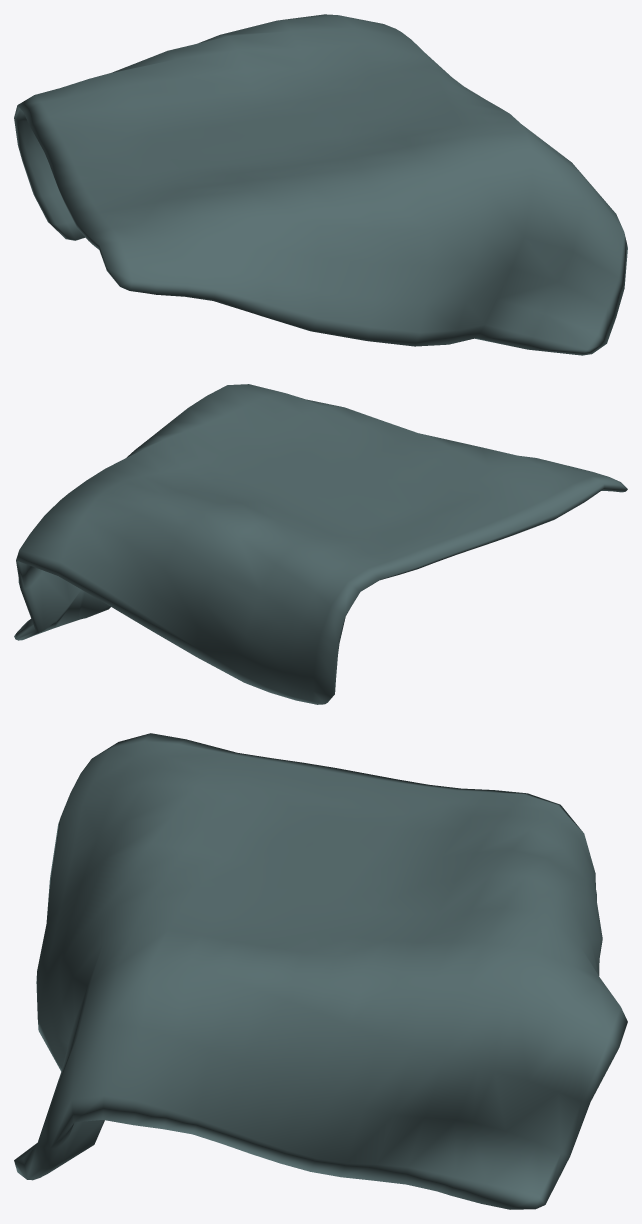
Rendered from blanket.fbx.
The picture shows the model from 3 angles, top to bottom: view 1: azimuth 30°, elevation 25°; view 2: azimuth 150°, elevation 25°; view 3: azimuth 270°, elevation 25°; orthographic projection. The views are drawn at different scales.
Parts seen in each view (by area): view 1: Blanket_low; view 2: Blanket_low; view 3: Blanket_low.
Boxes of the visible parts, box(x1,y1,x2,y2) form: Blanket_low: box(14, 14, 627, 355); Blanket_low: box(14, 384, 627, 704); Blanket_low: box(14, 733, 627, 1209).
Bounding box in the file's own units: 94.62 × 33.85 × 86.53.
